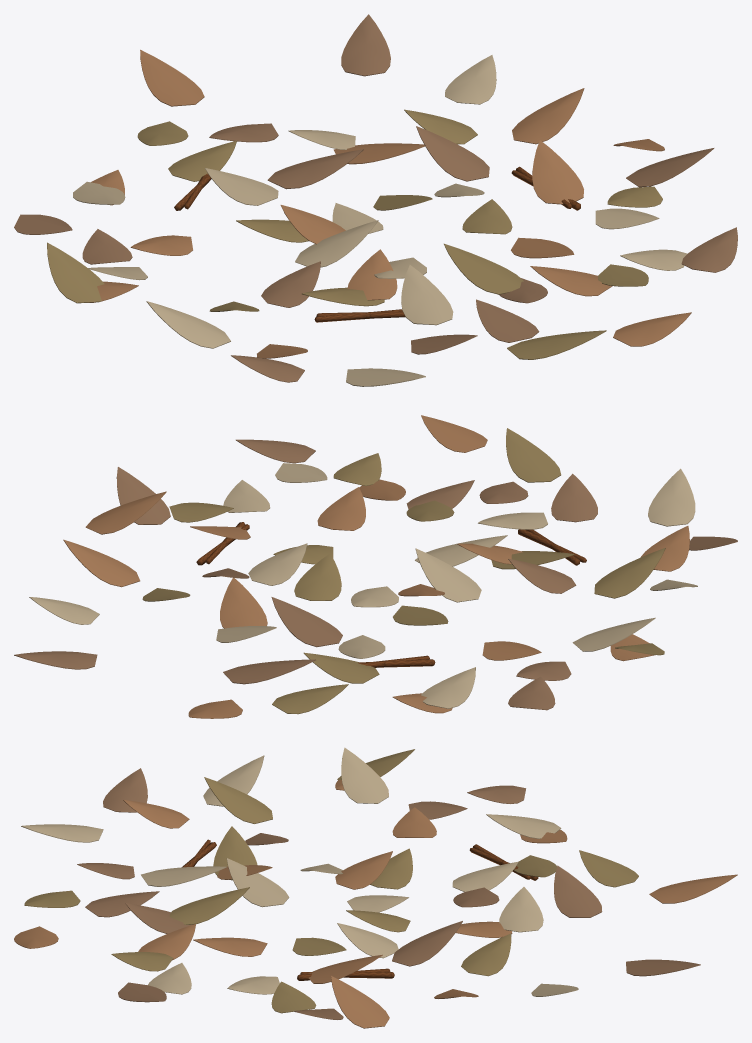
File: birds-and-reptiles-hd-leaf-litter-patch-d8d6774a__28121.glb
The picture shows the model from 3 angles, top to bottom: view 1: azimuth 30°, elevation 25°; view 2: azimuth 150°, elevation 25°; view 3: azimuth 270°, elevation 25°; orthographic projection. The views are drawn at different scales.
Visible parts, largest first — view 1: leaf-litter-patch; view 2: leaf-litter-patch; view 3: leaf-litter-patch.
Boxes of the visible parts, <box> form: leaf-litter-patch: <box>14,14,737,386</box>; leaf-litter-patch: <box>14,415,737,718</box>; leaf-litter-patch: <box>14,747,737,1028</box>.
Bounding box in the file's own units: 1.42 × 0.0877 × 1.63.
Materials: 5 (5 with a texture image).
